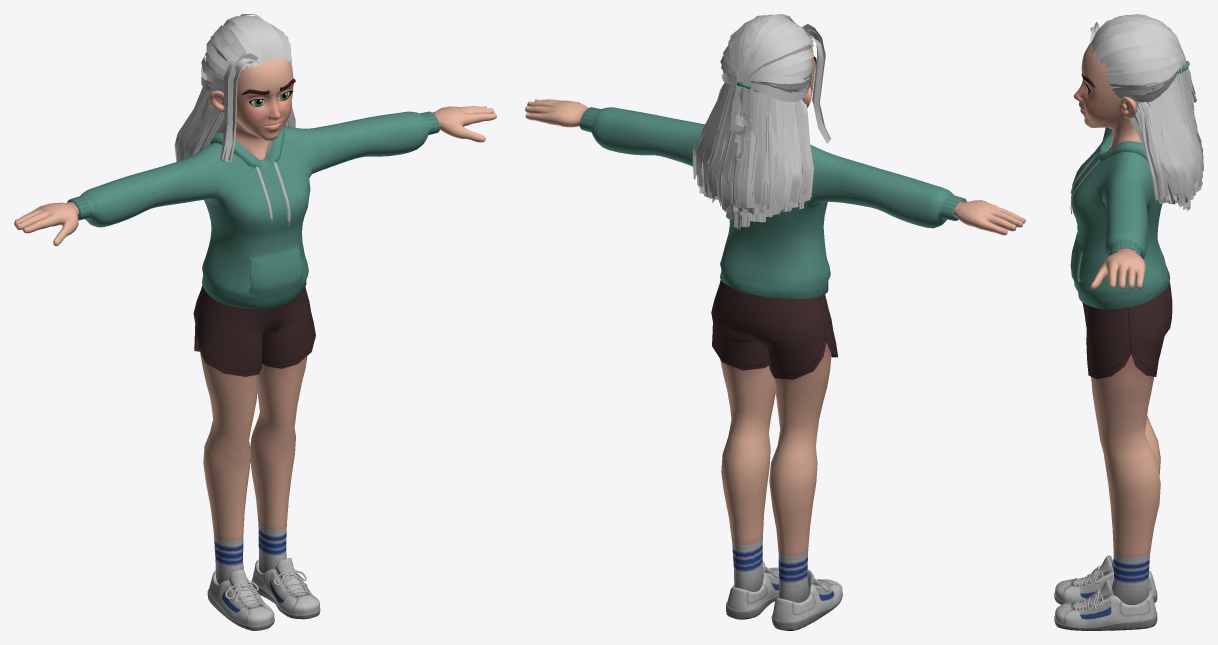
Rendered from Alex.obj.
3 renders of one model, left to right at view 1: azimuth 30°, elevation 25°; view 2: azimuth 150°, elevation 25°; view 3: azimuth 270°, elevation 25°, orthographic. The views are drawn at different scales.
Visible parts, largest first — view 1: Sweater, Body, Pants, Hair, Shoes; view 2: Body, Hair, Sweater, Pants, Shoes; view 3: Body, Hair, Sweater, Pants, Shoes.
Boxes of the visible parts, box(x1,y1,x2,y2) form: Sweater: box(67, 111, 440, 309); Body: box(14, 56, 496, 583); Pants: box(193, 285, 315, 376); Hair: box(174, 14, 295, 162); Shoes: box(207, 558, 320, 630); Body: box(525, 44, 1025, 602); Hair: box(692, 14, 831, 229); Sweater: box(579, 107, 966, 299); Pants: box(711, 280, 837, 379); Shoes: box(726, 561, 842, 630); Body: box(1073, 42, 1160, 604); Hair: box(1090, 14, 1203, 210); Sweater: box(1070, 127, 1170, 309); Pants: box(1082, 282, 1172, 379); Shoes: box(1054, 555, 1157, 630).
Bounding box in the file's own units: 149 × 172 × 39.33.
